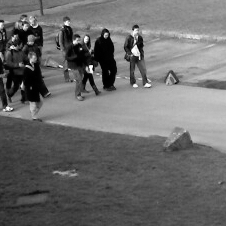person: (125, 24, 153, 89), (66, 33, 89, 101), (95, 28, 119, 91), (25, 34, 49, 96), (58, 16, 79, 82), (25, 50, 44, 121), (81, 34, 99, 94), (11, 35, 26, 99), (1, 47, 15, 112), (27, 15, 45, 47), (1, 18, 7, 47), (18, 11, 31, 24), (13, 18, 23, 34), (20, 22, 31, 36)
